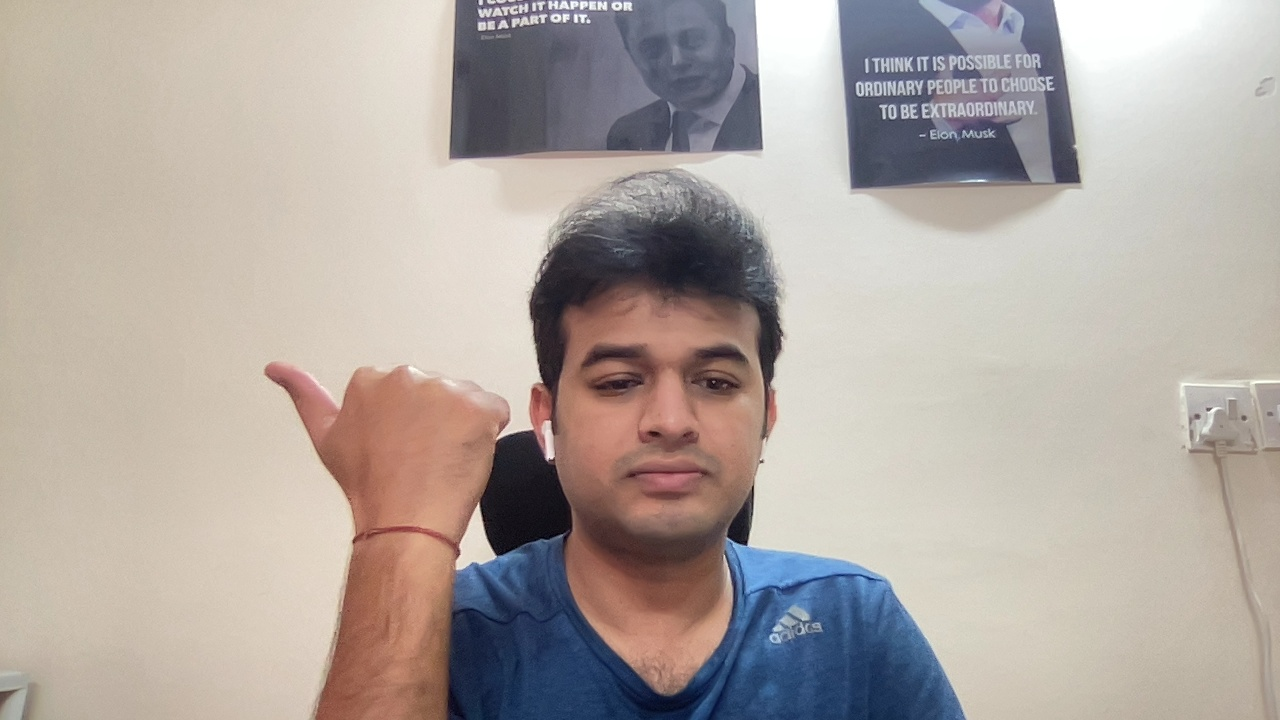right: (257, 352, 518, 530)
